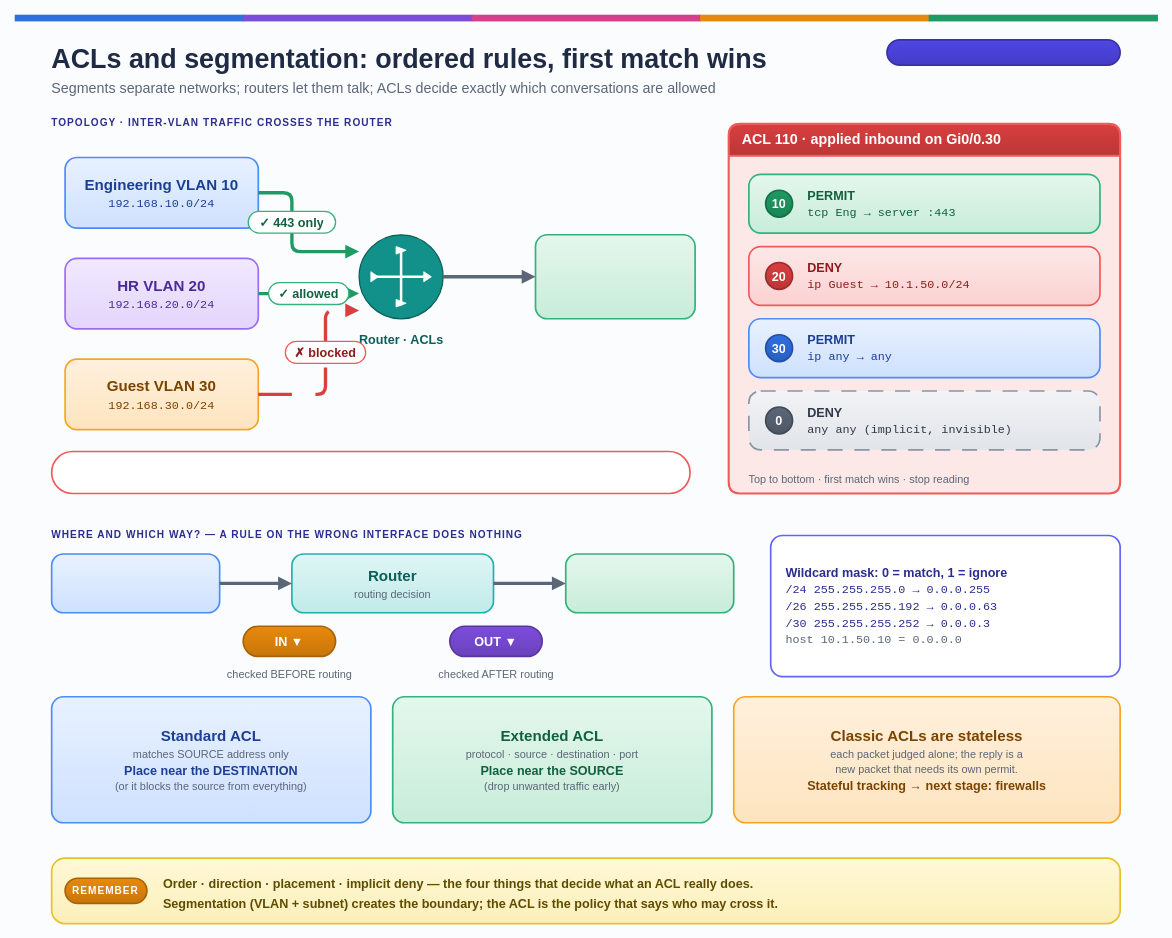
Image size: 1172x938. Some labels were removed from this diagram. The centre of each missing label's shape, as x and y in pixels:
A guest packet to the server hits rule 20 → DENIED. It never reaches rule 30.: the point at 370,472
Corp server 10.1.50.10 10.1.50.0/24: the point at 615,276
Destination receives: the point at 649,583
Source sends packet: the point at 135,583
STAGE 12 · ACLs & SEGMENTATION: the point at 1003,52
